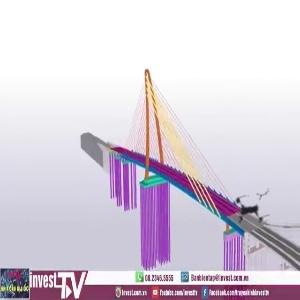drone: (211, 170, 295, 254)
